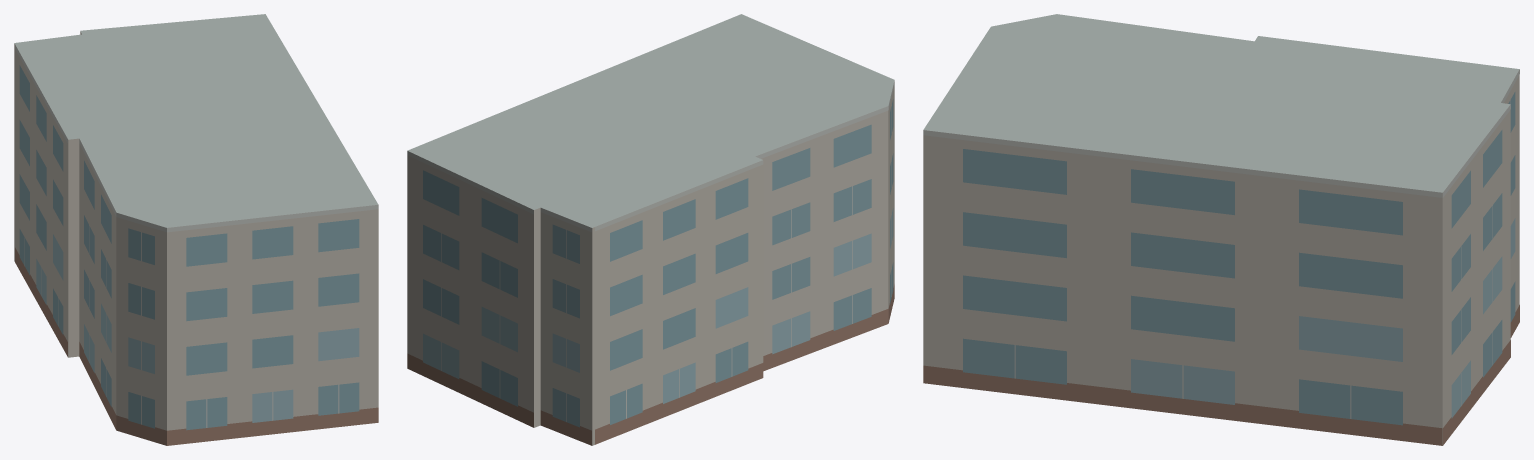
Rendered from survey-upis-32900622.glb.
The picture shows the model from 3 angles, left to right: view 1: azimuth 30°, elevation 25°; view 2: azimuth 150°, elevation 25°; view 3: azimuth 270°, elevation 25°; orthographic projection. The views are drawn at different scales.
Parts seen in each view (by area): view 1: survey-upis-32900622.tmp; view 2: survey-upis-32900622.tmp; view 3: survey-upis-32900622.tmp.
Boxes of the visible parts, x1,y1,x2,y2 form: survey-upis-32900622.tmp: [14, 14, 378, 445]; survey-upis-32900622.tmp: [407, 14, 894, 445]; survey-upis-32900622.tmp: [923, 14, 1519, 445].
Size of the model in its own units: 18.03 by 11.9 by 25.42.
